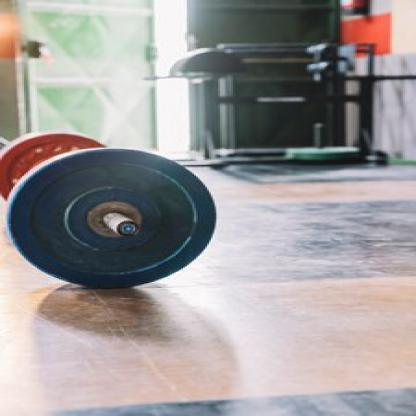Barbell: (3, 145, 224, 293)
